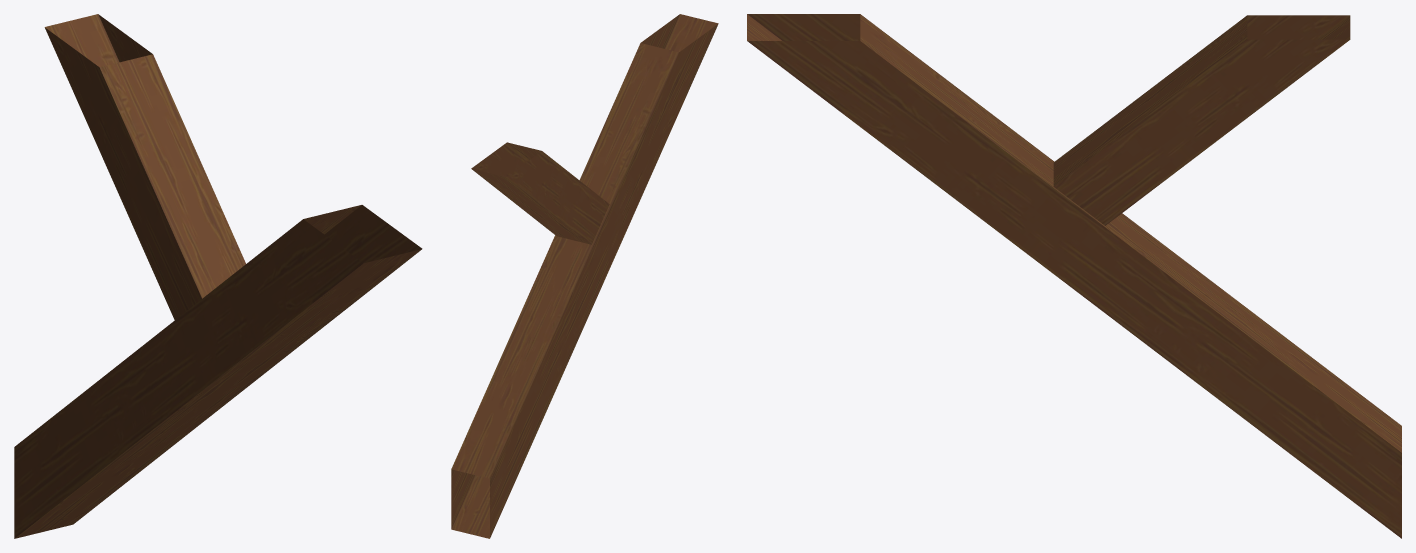
Rendered from Prop_Support.glb.
The picture shows the model from 3 angles, left to right: view 1: azimuth 30°, elevation 25°; view 2: azimuth 150°, elevation 25°; view 3: azimuth 270°, elevation 25°; orthographic projection. The views are drawn at different scales.
Visible parts, largest first — view 1: Prop_Support; view 2: Prop_Support; view 3: Prop_Support.
Boxes of the visible parts, box(x1,y1,x2,y2) form: Prop_Support: box(14, 14, 422, 538); Prop_Support: box(451, 14, 718, 538); Prop_Support: box(747, 14, 1401, 538).
Size of the model in its own units: 0.1986 by 1.71 by 2.04.
1 material, 1 textured.
